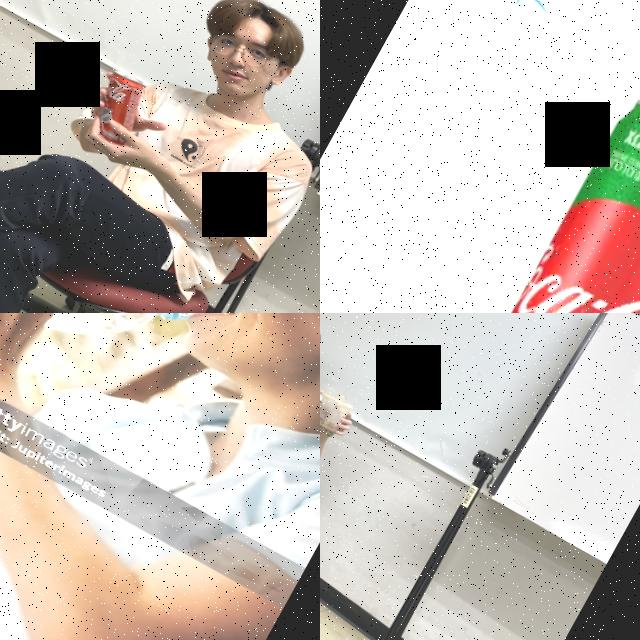bottle: (0, 313, 201, 472)
can: (426, 89, 640, 313), (82, 66, 156, 150)
cup: (320, 388, 357, 442)
